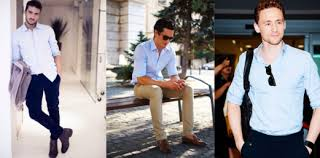C_shirt: (12, 22, 59, 81)
F_shirt: (225, 42, 320, 135), (133, 39, 177, 82)
